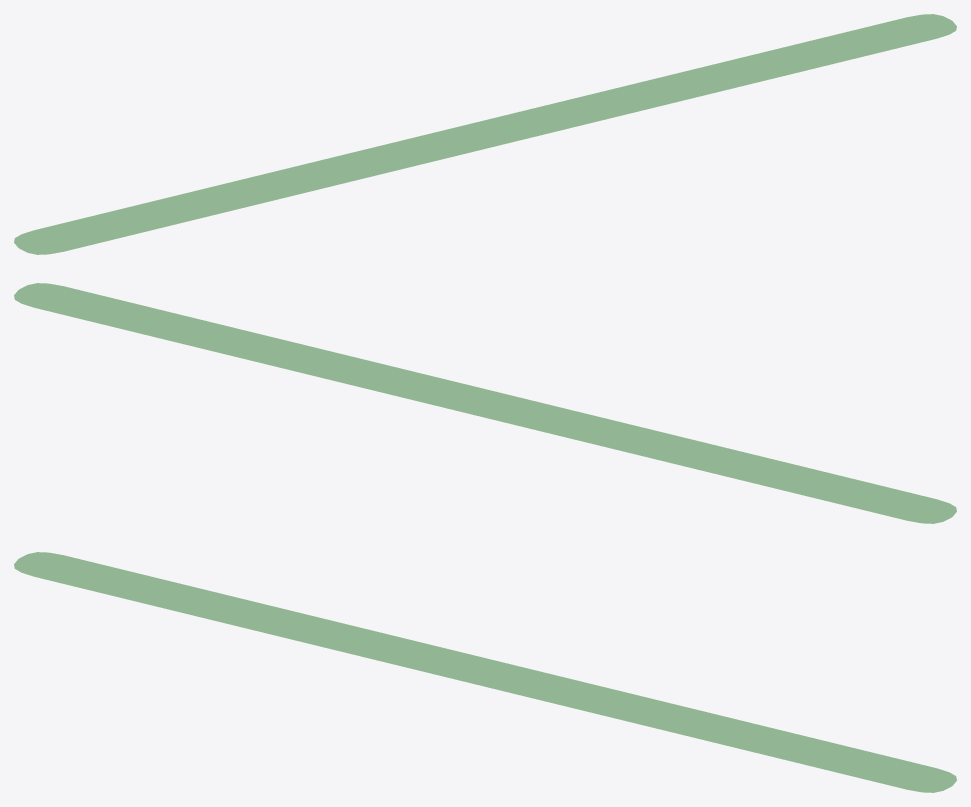
Rendered from GrassZone2.fbx.
3 renders of one model, top to bottom at view 1: azimuth 30°, elevation 25°; view 2: azimuth 150°, elevation 25°; view 3: azimuth 330°, elevation 25°, orthographic.
Parts seen in each view (by area): view 1: GrassZone3__7__006; view 2: GrassZone3__7__006; view 3: GrassZone3__7__006.
Boxes of the visible parts, left/top/right/bottom form: GrassZone3__7__006: left=14, top=14, right=956, bottom=254; GrassZone3__7__006: left=14, top=283, right=956, bottom=523; GrassZone3__7__006: left=14, top=552, right=956, bottom=792.
Bounding box in the file's own units: 21750 × 6.27e-12 × 1189.
